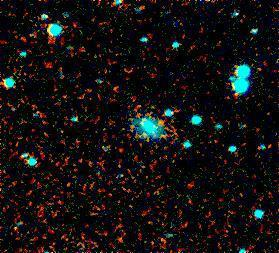star: (228, 79, 258, 109)
